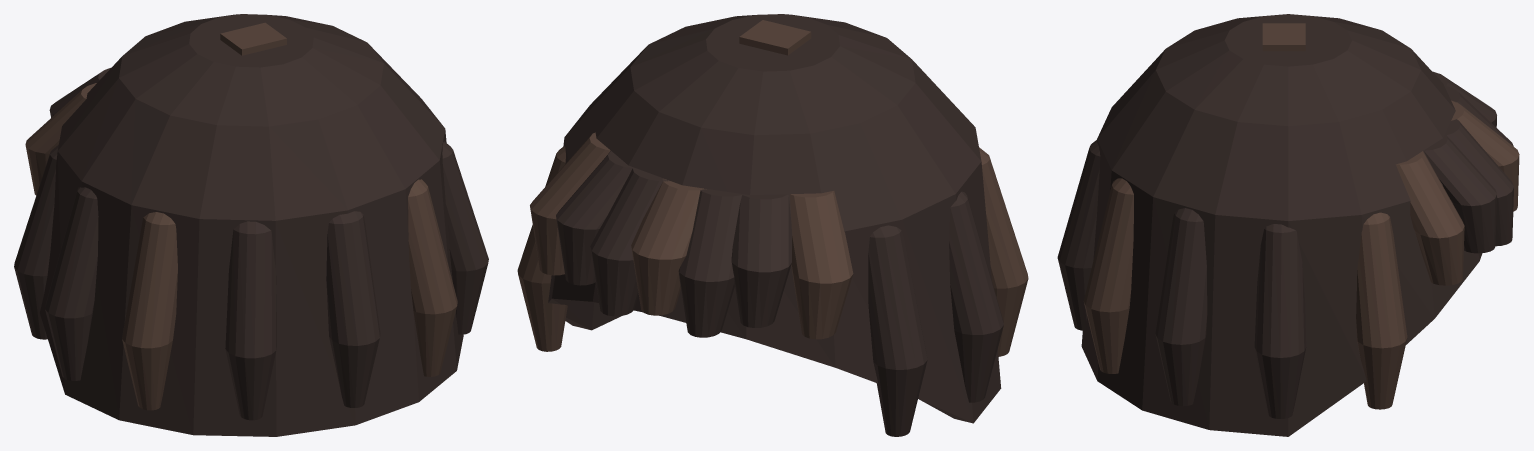
The picture shows the model from 3 angles, left to right: view 1: azimuth 30°, elevation 25°; view 2: azimuth 150°, elevation 25°; view 3: azimuth 270°, elevation 25°; orthographic projection. The views are drawn at different scales.
Parts seen in each view (by area): view 1: CHAR-085; view 2: CHAR-085; view 3: CHAR-085.
Part boxes in pixels (x1,y1,x2,y2): CHAR-085: [14, 14, 488, 436]; CHAR-085: [517, 14, 1028, 436]; CHAR-085: [1057, 14, 1519, 436].
Bounding box in the file's own units: 0.2758 × 0.2 × 0.268.
Materials: 2 (2 with a texture image).
